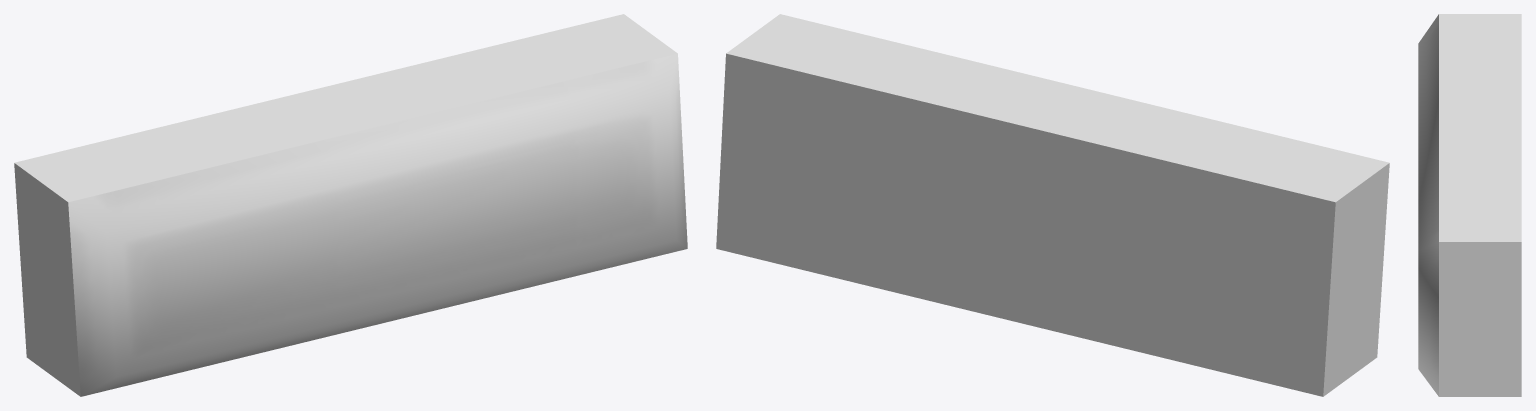
The model's file is LettersStylized01_S1.FBX.
The picture shows the model from 3 angles, left to right: view 1: azimuth 30°, elevation 25°; view 2: azimuth 150°, elevation 25°; view 3: azimuth 270°, elevation 25°; orthographic projection. The views are drawn at different scales.
Parts seen in each view (by area): view 1: LettersStylized01_S1; view 2: LettersStylized01_S1; view 3: LettersStylized01_S1.
Boxes of the visible parts, x1,y1,x2,y2 form: LettersStylized01_S1: [14, 14, 687, 396]; LettersStylized01_S1: [716, 14, 1389, 396]; LettersStylized01_S1: [1418, 14, 1521, 396].
Size of what is drawn, in the model's own units: 0.45 by 0.1372 by 0.085.
